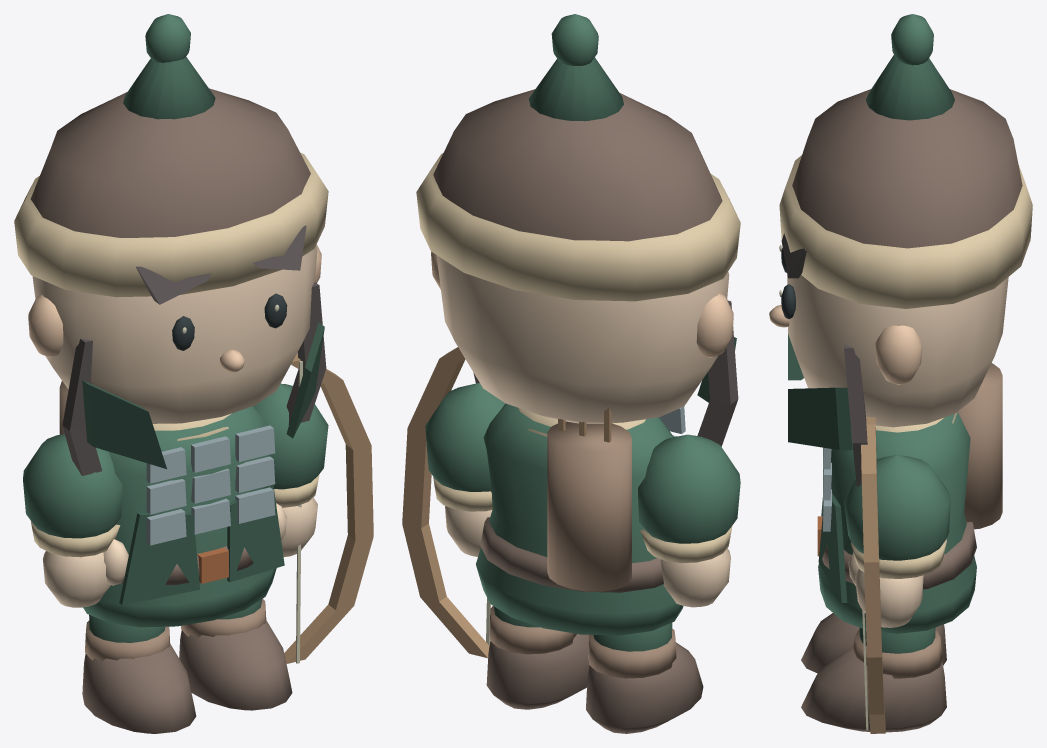
Rendered from archer.glb.
3 renders of one model, left to right at view 1: azimuth 30°, elevation 25°; view 2: azimuth 150°, elevation 25°; view 3: azimuth 270°, elevation 25°, orthographic. The views are drawn at different scales.
Parts seen in each view (by area): view 1: Regional helmet, Soft cheek head, Fur hat brim, Short folded tunic, Round leather boot, Curved bow, Puff sleeve, Round leather boot.001, Coat fold, Hood cheek cowl, Puff sleeve.001, Mongol pointed cap (+30 smaller); view 2: Regional helmet, Soft cheek head, Fur hat brim, Short folded tunic, Quiver leather, Puff sleeve, Curved bow, Round leather boot, Puff sleeve.001, Round leather boot.001, Mongol pointed cap, Broad leather belt (+10 smaller); view 3: Regional helmet, Soft cheek head, Fur hat brim, Short folded tunic, Puff sleeve.001, Round leather boot.001, Quiver leather, Curved bow, Mongol pointed cap, Hood cheek cowl R, Ear.001, Little mitten.001 (+9 smaller).
Part boxes in pixels (x1,y1,x2,y2): Regional helmet: (30,88,310,237); Soft cheek head: (32,245,317,423); Fur hat brim: (14,152,328,297); Short folded tunic: (83,406,276,627); Round leather boot: (82,643,196,733); Curved bow: (284,353,373,663); Puff sleeve: (23,434,122,538); Round leather boot.001: (179,620,292,710); Coat fold: (119,512,199,605); Hood cheek cowl: (82,380,166,469); Puff sleeve.001: (253,383,328,489); Mongol pointed cap: (123,57,215,119); Regional helmet: (433,89,722,241); Soft cheek head: (436,255,729,423); Fur hat brim: (416,153,740,301); Short folded tunic: (476,403,683,635); Quiver leather: (547,421,631,591); Puff sleeve: (638,434,740,543); Curved bow: (402,347,489,658); Round leather boot: (586,642,703,733); Puff sleeve.001: (425,383,505,491); Round leather boot.001: (486,634,589,709); Mongol pointed cap: (528,57,623,121); Broad leather belt: (480,517,663,592); Regional helmet: (792,89,1022,248); Soft cheek head: (787,275,1008,427); Fur hat brim: (779,155,1032,308); Short folded tunic: (818,412,976,633); Puff sleeve.001: (844,454,950,560); Round leather boot.001: (801,646,946,732); Quiver leather: (958,363,1002,529); Curved bow: (861,416,885,733); Mongol pointed cap: (866,55,954,120); Hood cheek cowl R: (788,387,852,450); Ear.001: (875,325,922,384); Little mitten.001: (855,568,923,627).
Bounding box in the file's own units: 0.89 × 1.75 × 0.614.
